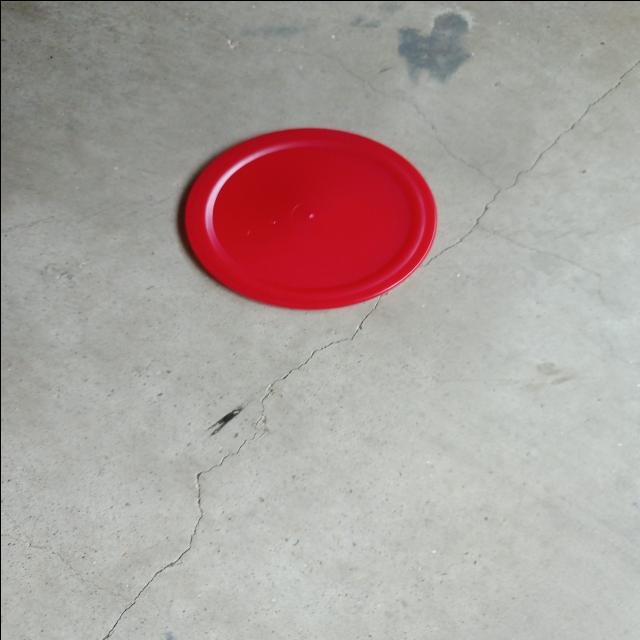chip: (183, 127, 440, 309)
